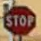stop: (3, 5, 36, 35)
